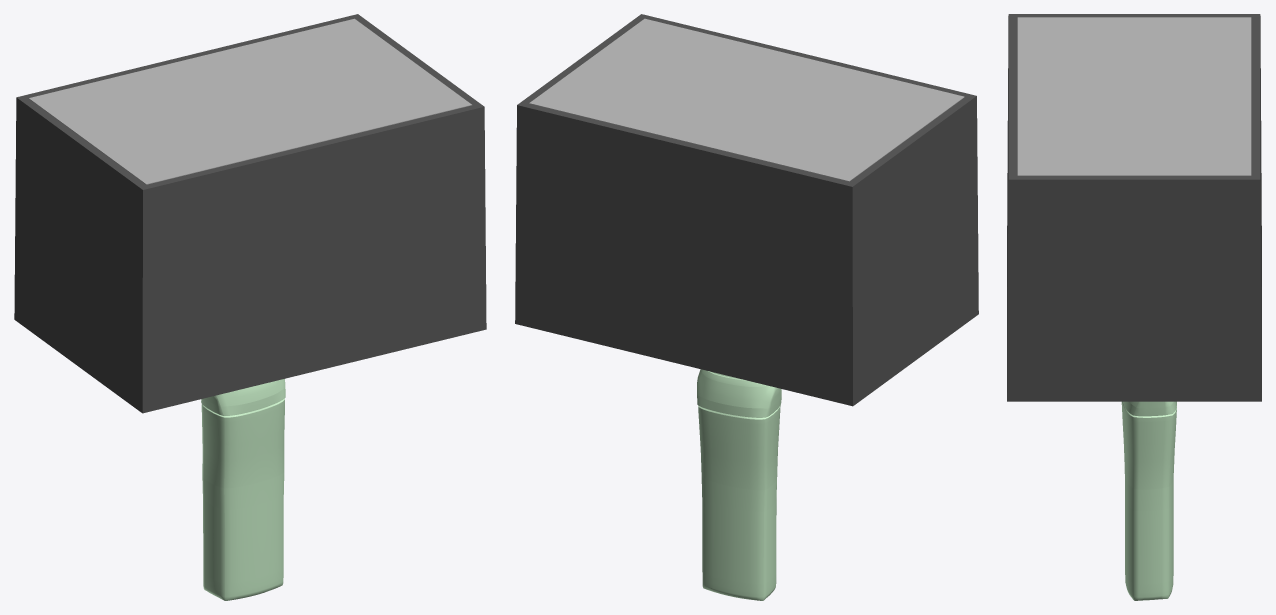
Rendered from shampoo_02.glb.
The picture shows the model from 3 angles, left to right: view 1: azimuth 30°, elevation 25°; view 2: azimuth 150°, elevation 25°; view 3: azimuth 270°, elevation 25°; orthographic projection.
Visible parts, largest first — view 1: polySurface52, polySurface53, obj:Box009; view 2: polySurface52, polySurface53, obj:Box009; view 3: polySurface52, polySurface53, obj:Box009.
Part boxes in pixels (x1,y1,x2,y2): polySurface52: (14,14,486,413); polySurface53: (29,18,471,184); obj:Box009: (201,379,285,600); polySurface52: (515,14,978,406); polySurface53: (529,18,964,181); obj:Box009: (697,369,781,600); polySurface52: (1007,14,1261,401); polySurface53: (1017,17,1251,175); obj:Box009: (1121,401,1176,600).
Bounding box in the file's own units: 32.66 × 44.59 × 21.06.
